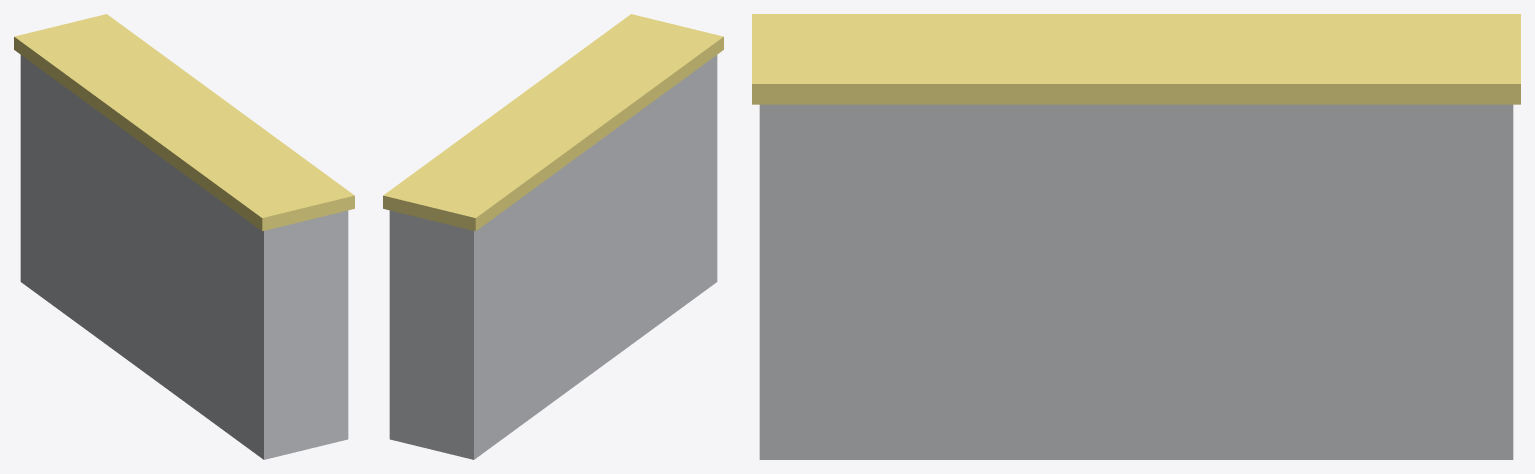
Rendered from Toy_VaultRail_105.fbx.
The picture shows the model from 3 angles, left to right: view 1: azimuth 30°, elevation 25°; view 2: azimuth 150°, elevation 25°; view 3: azimuth 270°, elevation 25°; orthographic projection. The views are drawn at different scales.
Parts seen in each view (by area): view 1: Toy_VaultRail_105; view 2: Toy_VaultRail_105; view 3: Toy_VaultRail_105.
Boxes of the visible parts, x1,y1,x2,y2 form: Toy_VaultRail_105: (14, 14, 354, 459); Toy_VaultRail_105: (383, 14, 723, 459); Toy_VaultRail_105: (752, 14, 1520, 459).
Bounding box in the file's own units: 0.44 × 1.11 × 2.04.
